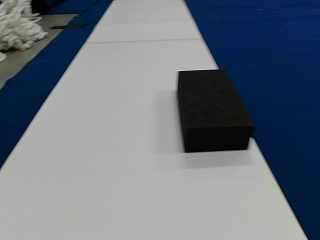block: (178, 70, 252, 152)
